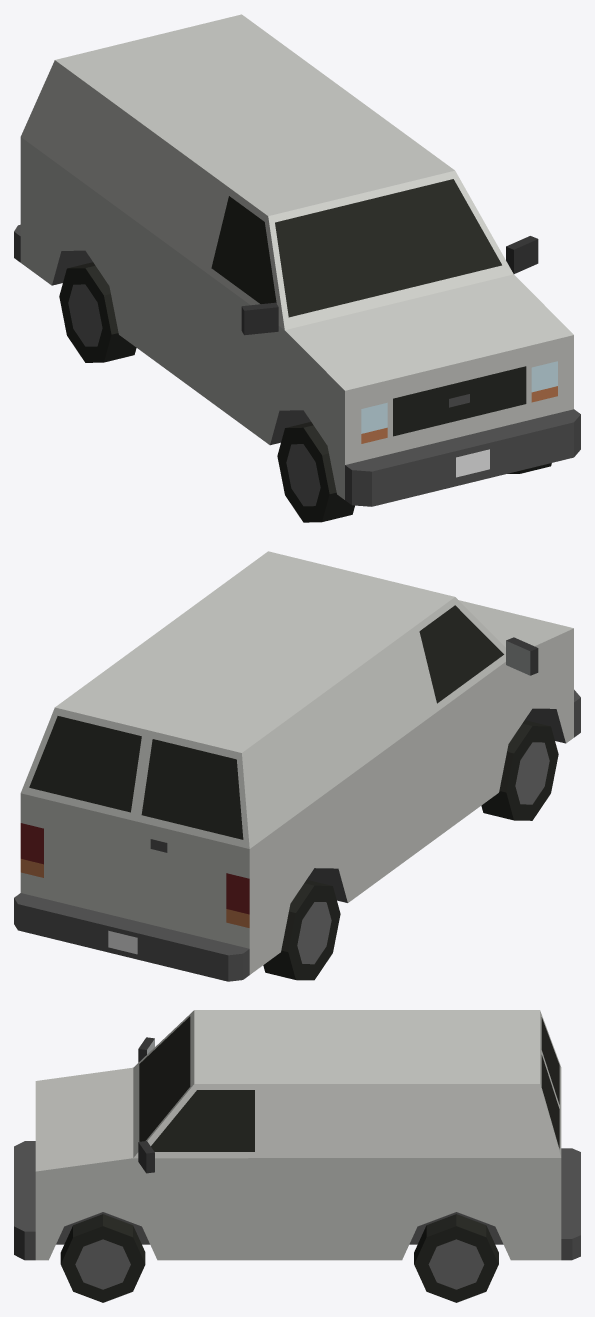
The model's file is Veh_Van_01_White.glb.
3 renders of one model, top to bottom at view 1: azimuth 30°, elevation 25°; view 2: azimuth 150°, elevation 25°; view 3: azimuth 270°, elevation 25°, orthographic. The views are drawn at different scales.
Parts seen in each view (by area): view 1: Van_01_Default, Wheel_FR, Wheel_RR; view 2: Van_01_Default, Wheel_RR, Wheel_FR; view 3: Van_01_Default, Wheel_FL, Wheel_RL.
Part boxes in pixels (box(x1,y1,x2,y2)): Van_01_Default: box(14, 14, 580, 506); Wheel_FR: box(277, 422, 354, 522); Wheel_RR: box(59, 262, 136, 362); Van_01_Default: box(14, 551, 580, 981); Wheel_RR: box(263, 879, 340, 980); Wheel_FR: box(481, 720, 558, 820); Van_01_Default: box(14, 1010, 580, 1260); Wheel_FL: box(60, 1214, 145, 1302); Wheel_RL: box(414, 1214, 498, 1302).
Bounding box in the file's own units: 1.38 × 1.16 × 2.84.
1 material, 1 textured.
